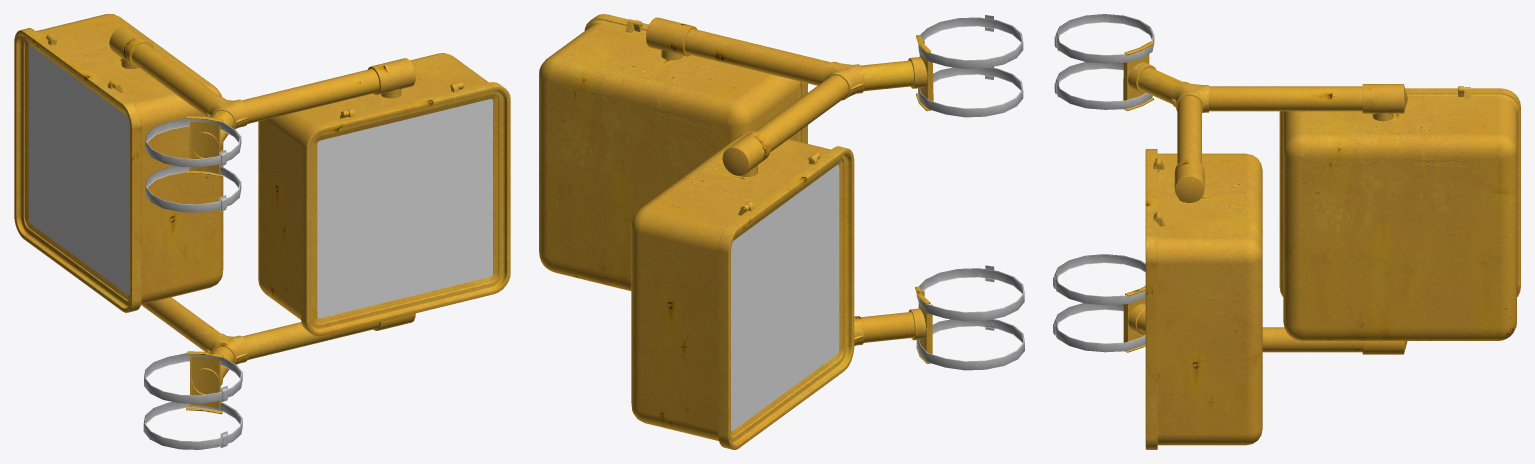
Rendered from stop.fbx.
The picture shows the model from 3 angles, left to right: view 1: azimuth 30°, elevation 25°; view 2: azimuth 150°, elevation 25°; view 3: azimuth 270°, elevation 25°; orthographic projection. The views are drawn at different scales.
Visible parts, largest first — view 1: nysl_pedestrian_signals_1.Shape; view 2: nysl_pedestrian_signals_1.Shape; view 3: nysl_pedestrian_signals_1.Shape.
Part boxes in pixels (x1,y1,x2,y2): nysl_pedestrian_signals_1.Shape: [14, 14, 510, 449]; nysl_pedestrian_signals_1.Shape: [539, 14, 1024, 449]; nysl_pedestrian_signals_1.Shape: [1053, 14, 1520, 449].
Bounding box in the file's own units: 78.63 × 58.24 × 81.86.
